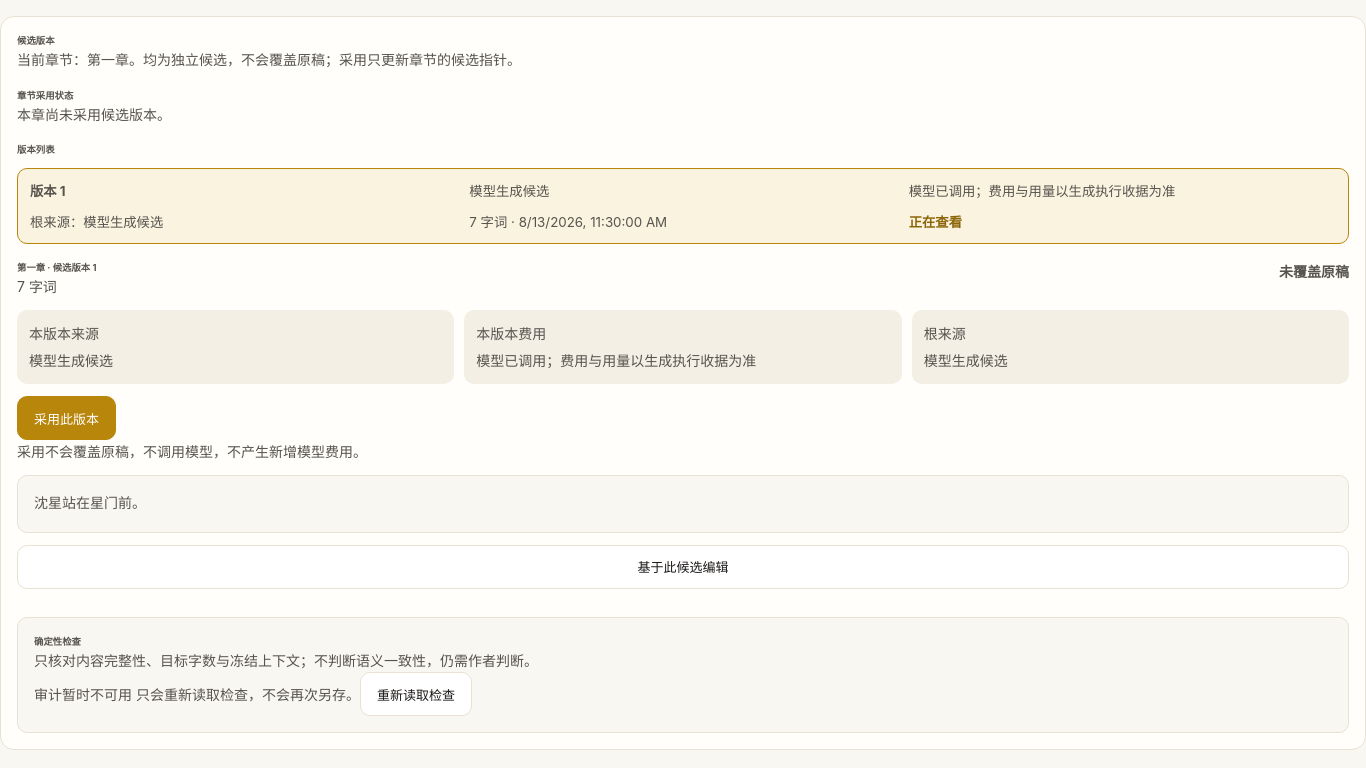
Test: CandidateVersionWorkspace › keeps v6 pending and the page lock when refreshed current disagrees with the strict receipt
Step 1. Click the button "采用此版本" → (66, 418), box [17,396,116,440]
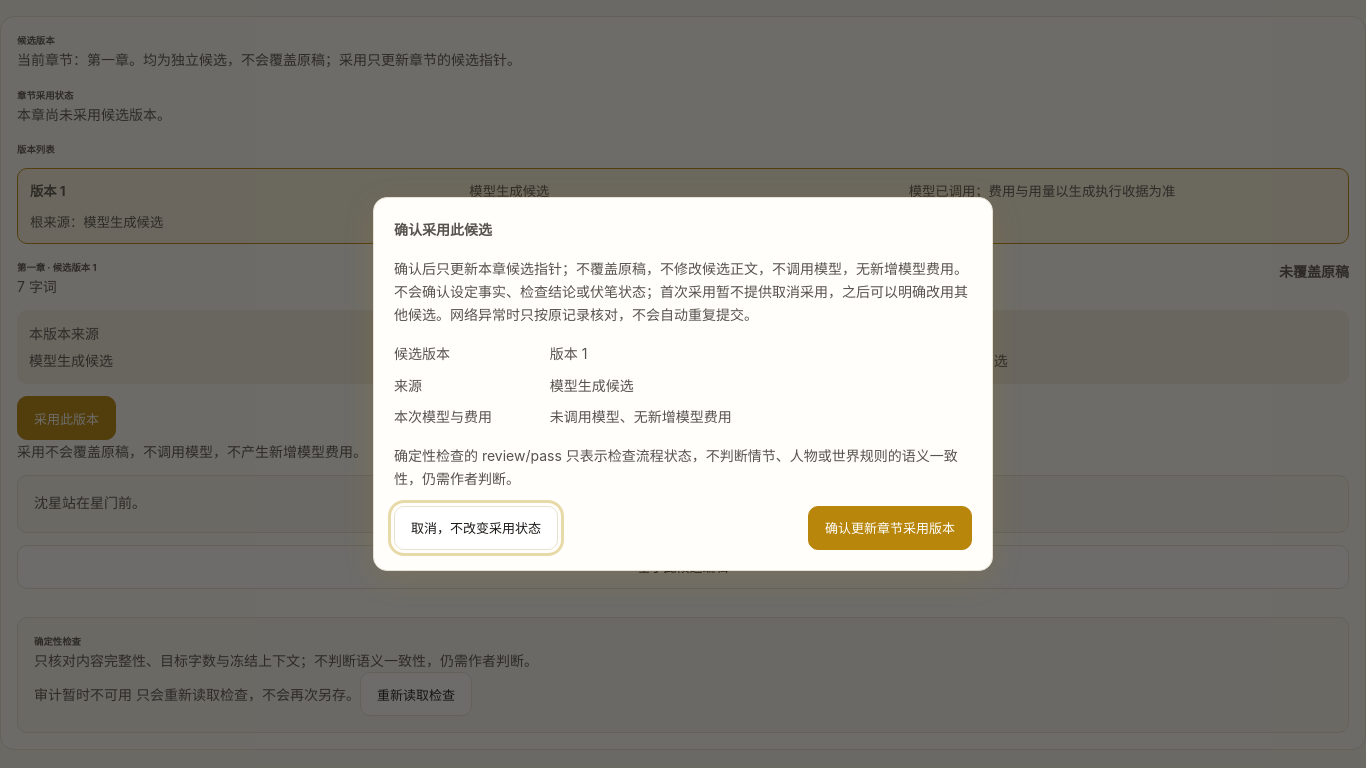
Step 2. Click the button "确认更新章节采用版本" → (890, 528), box [808,506,972,550]
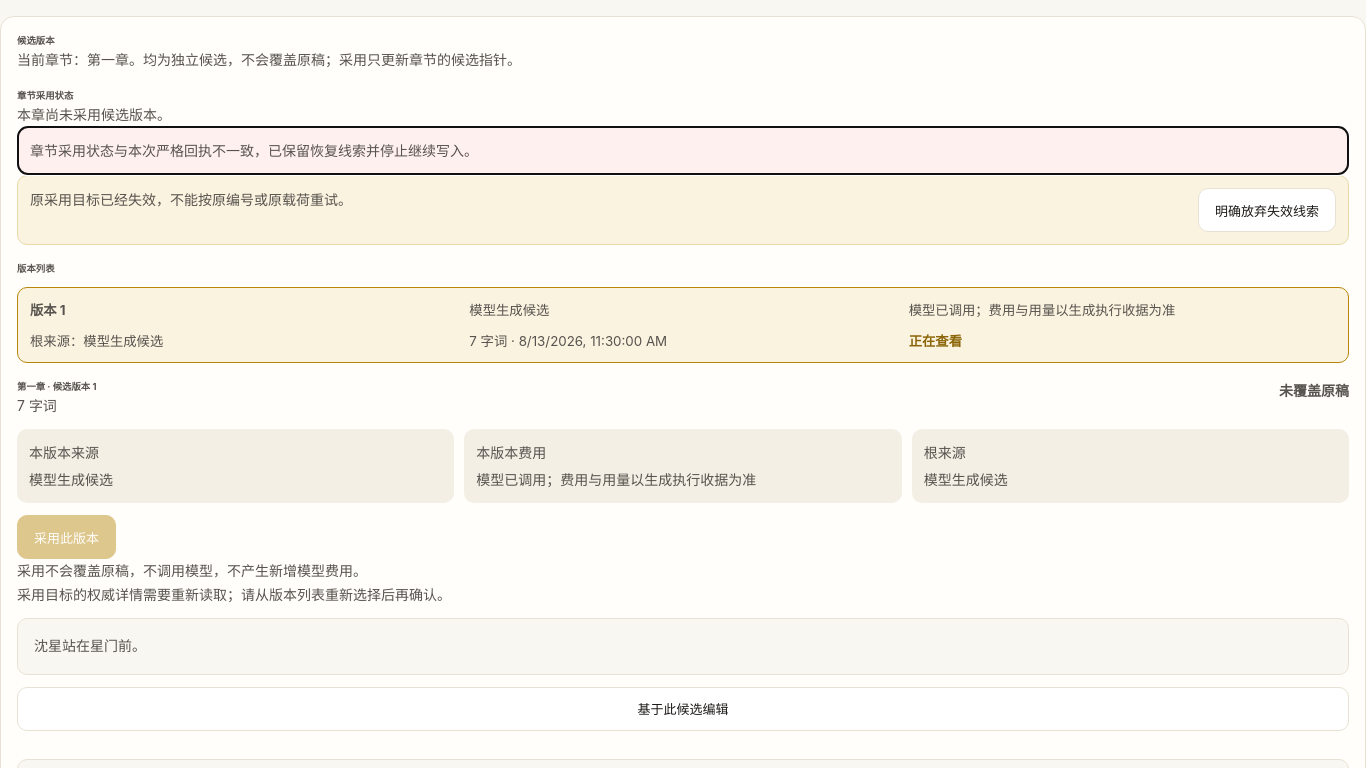
Now the button "明确放弃失效线索" is shown, box [1198,188,1336,232]
